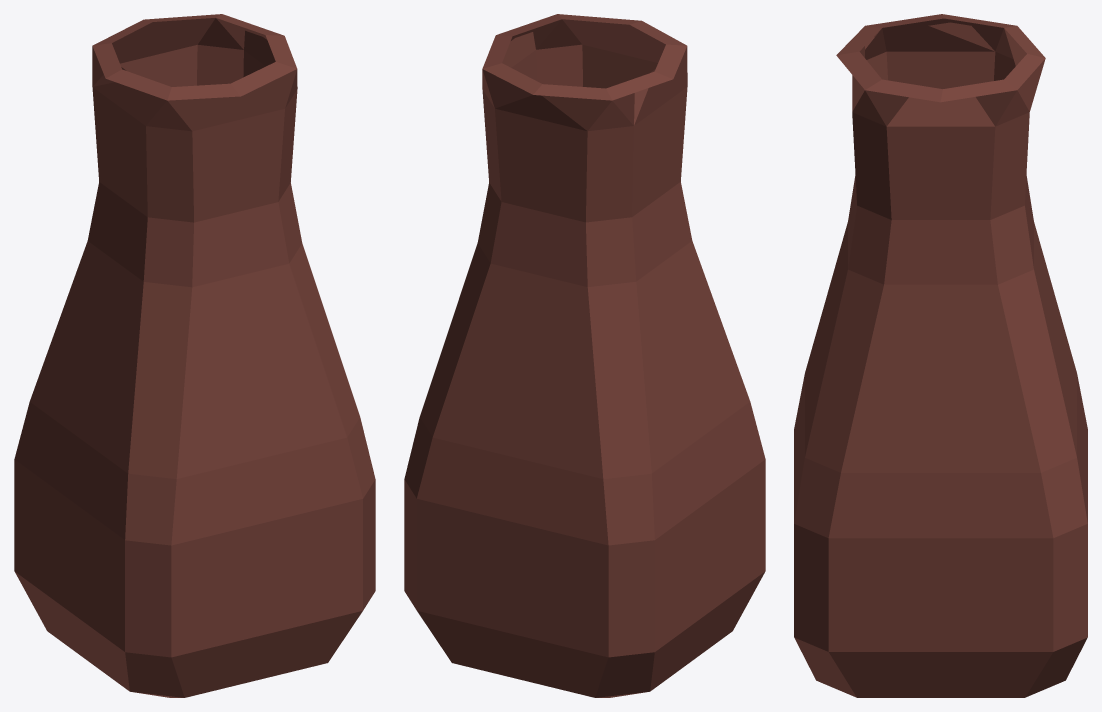
Rendered from Ваза.fbx.
The picture shows the model from 3 angles, left to right: view 1: azimuth 30°, elevation 25°; view 2: azimuth 150°, elevation 25°; view 3: azimuth 270°, elevation 25°; orthographic projection.
Parts seen in each view (by area): view 1: Куб; view 2: Куб; view 3: Куб.
Part boxes in pixels (<box>): Куб: <box>14,14,375,697</box>; Куб: <box>404,14,765,697</box>; Куб: <box>794,14,1087,697</box>.
Size of the model in its own units: 200 by 462 by 200.
